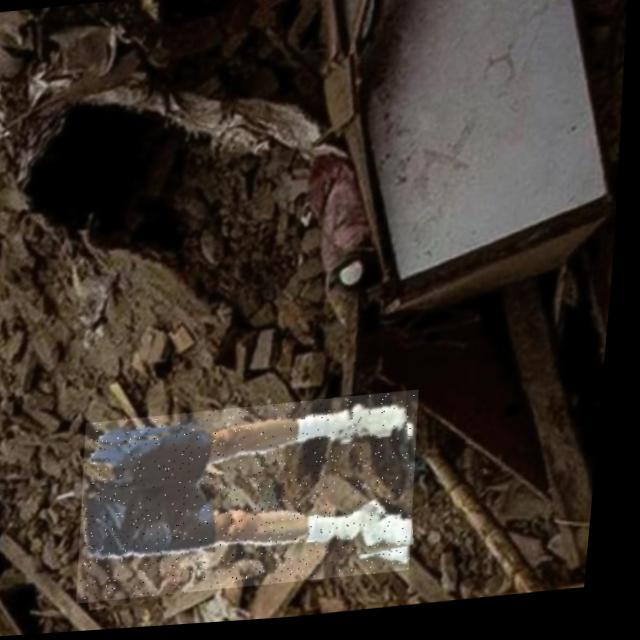Person in Rubble: (81, 394, 433, 604)
